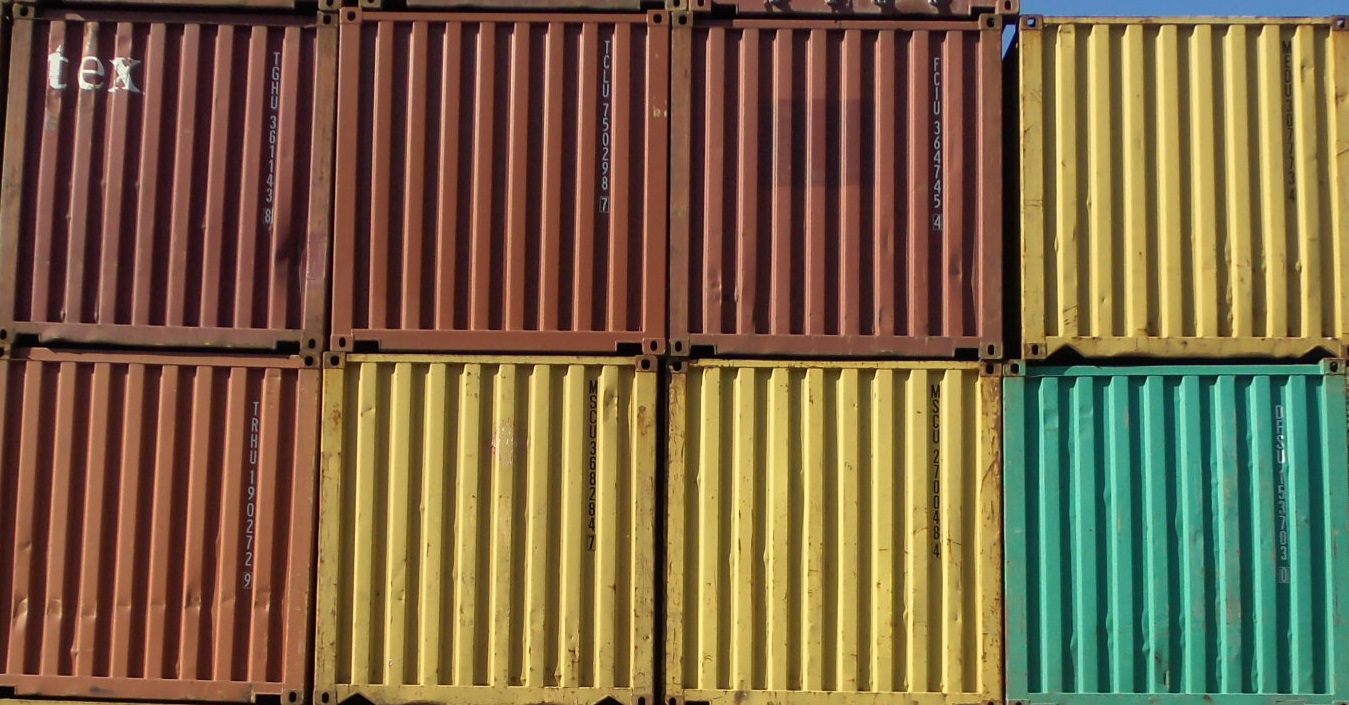container_no_door: (322, 348, 671, 705), (1009, 363, 1349, 705), (669, 363, 1009, 705), (1, 348, 316, 705), (1022, 18, 1349, 359), (673, 14, 999, 356), (341, 5, 667, 346), (9, 5, 320, 346)
